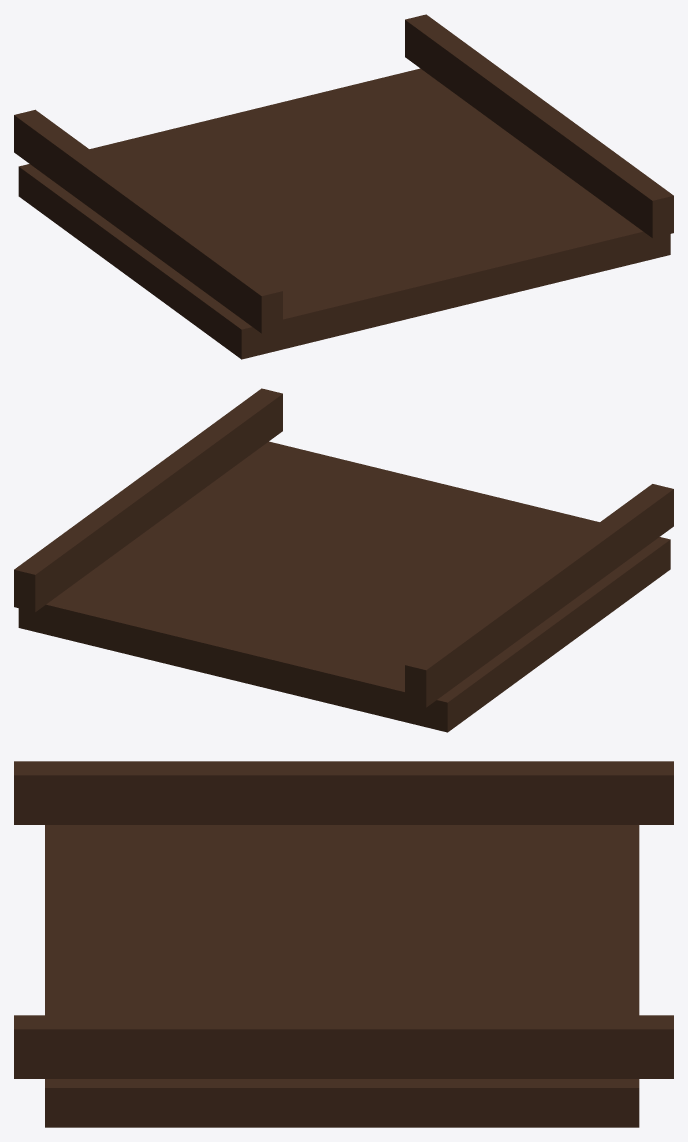
File: wood-bridge.obj
3 renders of one model, top to bottom at view 1: azimuth 30°, elevation 25°; view 2: azimuth 150°, elevation 25°; view 3: azimuth 270°, elevation 25°, orthographic. The views are drawn at different scales.
Visible parts, largest first — view 1: wood-bridge_0, wood-bridge_7, wood-bridge_6, wood-bridge_3, wood-bridge_5, wood-bridge_1, wood-bridge_2, wood-bridge_4; view 2: wood-bridge_5, wood-bridge_7, wood-bridge_6, wood-bridge_2, wood-bridge_0, wood-bridge_1, wood-bridge_3, wood-bridge_4; view 3: wood-bridge_7, wood-bridge_6, wood-bridge_5, wood-bridge_4, wood-bridge_3, wood-bridge_2, wood-bridge_1, wood-bridge_0.
Boxes of the visible parts, <box> form: wood-bridge_0: <box>204,204,670,359</box>; wood-bridge_7: <box>405,14,673,238</box>; wood-bridge_6: <box>14,109,282,333</box>; wood-bridge_3: <box>93,123,531,277</box>; wood-bridge_5: <box>18,68,456,223</box>; wood-bridge_1: <box>167,177,605,331</box>; wood-bridge_2: <box>130,150,568,304</box>; wood-bridge_4: <box>56,95,494,250</box>; wood-bridge_5: <box>18,577,484,732</box>; wood-bridge_7: <box>14,388,282,612</box>; wood-bridge_6: <box>405,484,673,707</box>; wood-bridge_2: <box>158,496,596,650</box>; wood-bridge_0: <box>232,441,670,596</box>; wood-bridge_1: <box>195,469,633,623</box>; wood-bridge_3: <box>120,523,559,677</box>; wood-bridge_4: <box>83,550,521,704</box>; wood-bridge_7: <box>14,1015,673,1078</box>; wood-bridge_6: <box>14,761,673,824</box>; wood-bridge_5: <box>540,825,639,1127</box>; wood-bridge_4: <box>441,825,540,1127</box>; wood-bridge_3: <box>342,825,440,1127</box>; wood-bridge_2: <box>243,825,341,1127</box>; wood-bridge_1: <box>144,825,242,1127</box>; wood-bridge_0: <box>45,825,143,1127</box>.
Bounding box in the file's own units: 1.8 × 0.28 × 1.8.
